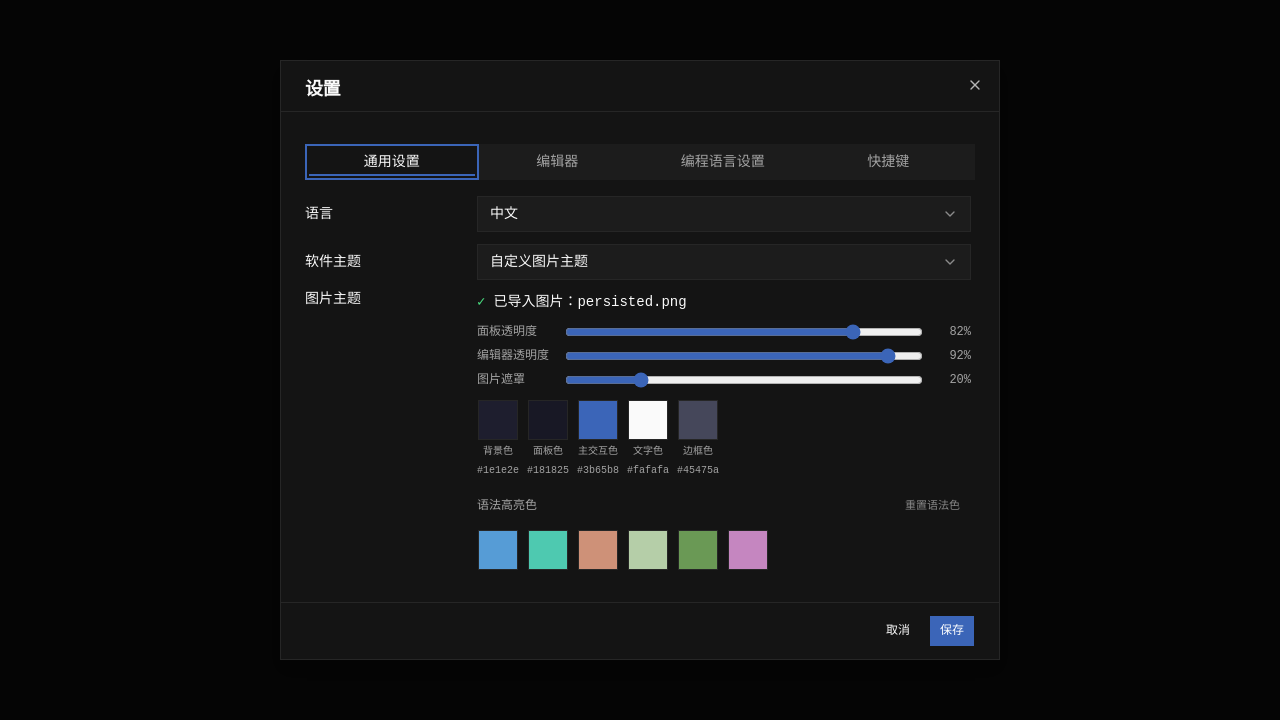
Scenario: SettingsPanel 自定义色板与重置 › State C 修改 primary 色后，draft.colors 和 themePreview 同步更新
Expected: the slider showing "82" next to "面板透明度" is shown, x1=565 y1=324 x2=923 y2=340
Type "#ff0000" into the colour field labelled "主交互色 #3b65b8" at (598, 439), box x1=577 y1=400 x2=619 y2=478
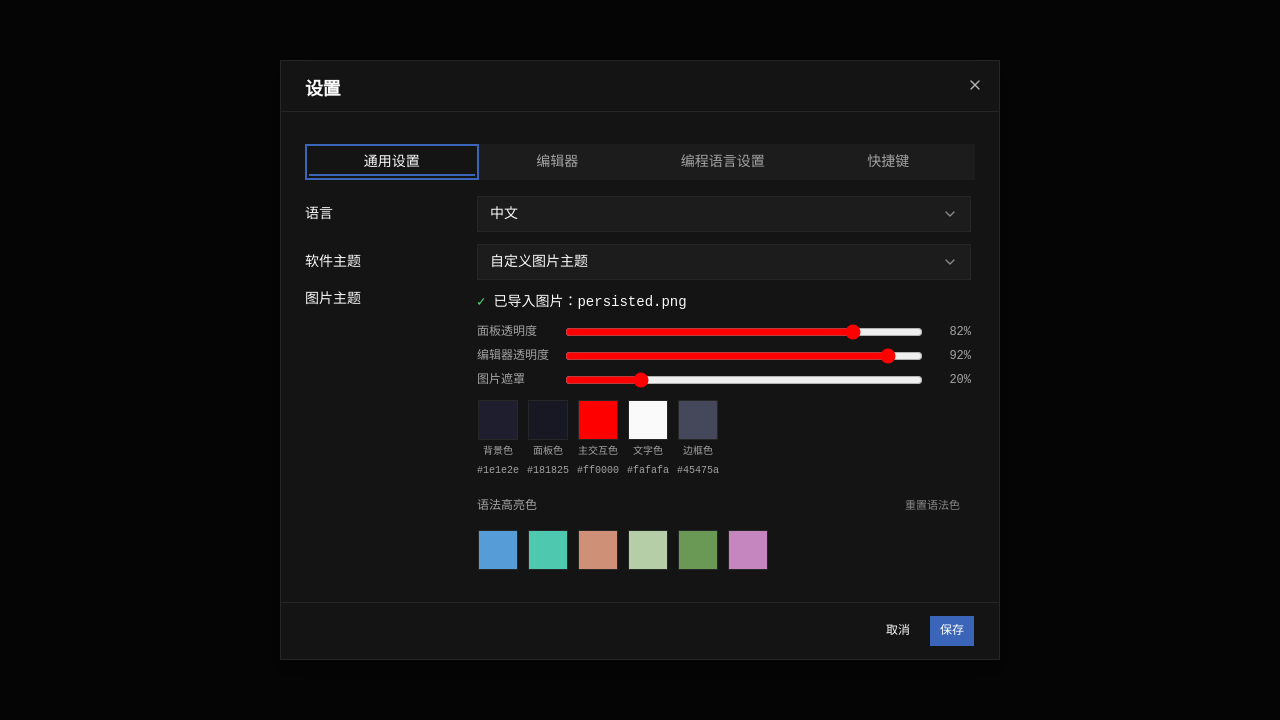
Expected: the text "#ff0000" is shown, x1=577 y1=463 x2=619 y2=478
